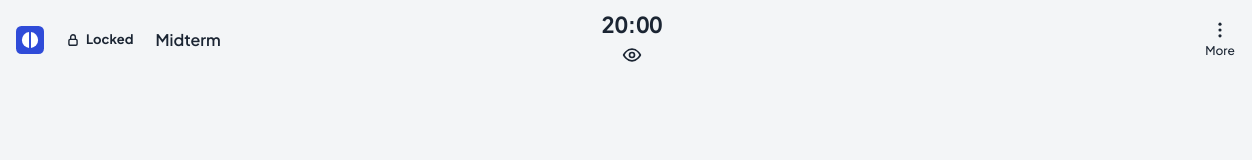
Scenario: exam top bar › hides the timer on request and shows it again in the last 5 minutes
Later steps or results of the test are not shown.
Expected: the text named "Time left" reads "20:00", [601, 10, 662, 38]
# layout D: an eye button named "Hide time" / "Show time"
Step 1. Click the button named "Hide time" → x=632, y=58, box [608, 44, 656, 71]
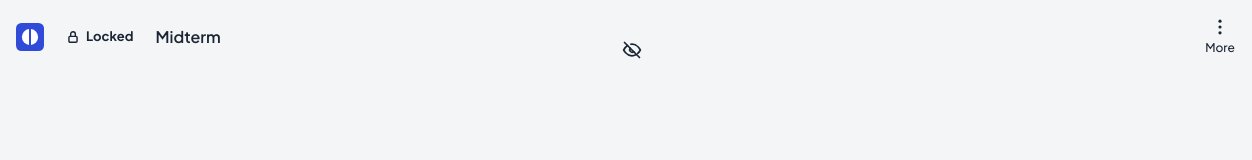
Result: the button named "Show time" is pressed at [608, 39, 656, 66]
